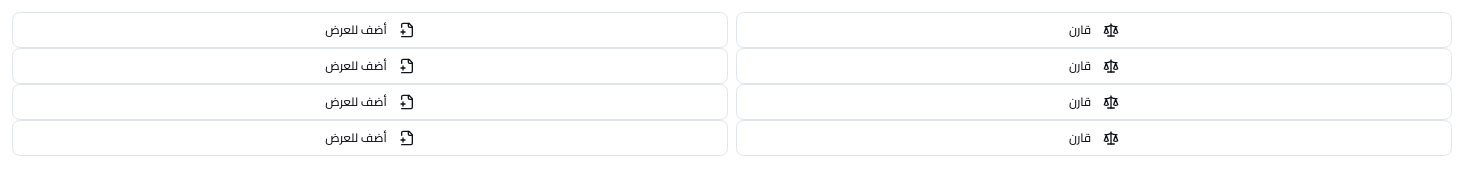
Test: storefront purchasing workflows › limits comparison to three products while keeping quote selection independent
Later steps or results of the test are not shown.
Click the 1st button "قارن": (1094, 30) [736, 12, 1452, 48]
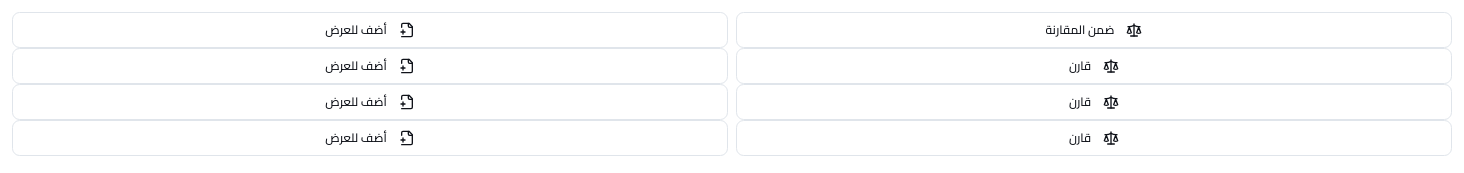
Click the 1st button "قارن": (1094, 66) [736, 48, 1452, 84]
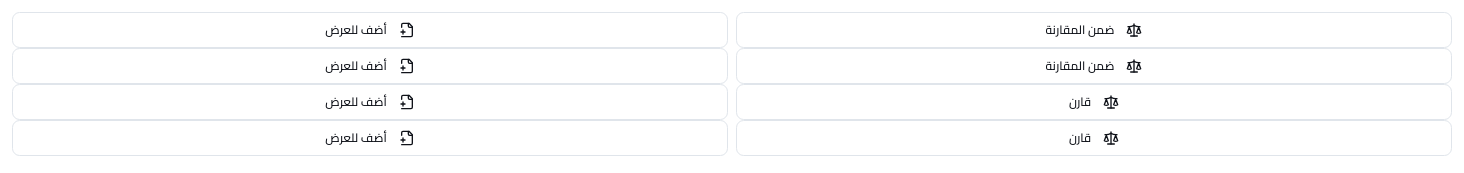
Click the 1st button "قارن": (1094, 102) [736, 84, 1452, 120]
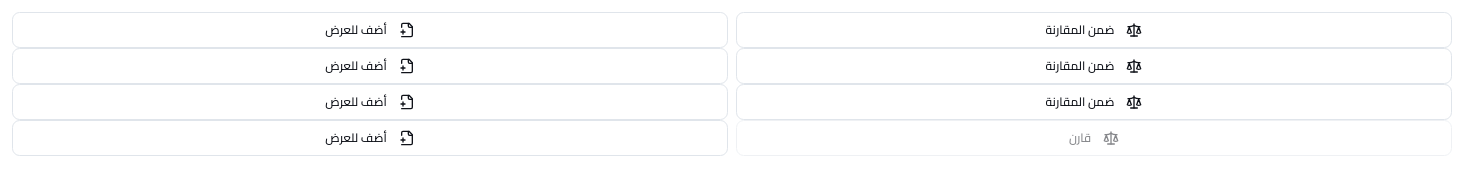
Result: the button "قارن" is disabled at [736, 120, 1452, 156]
